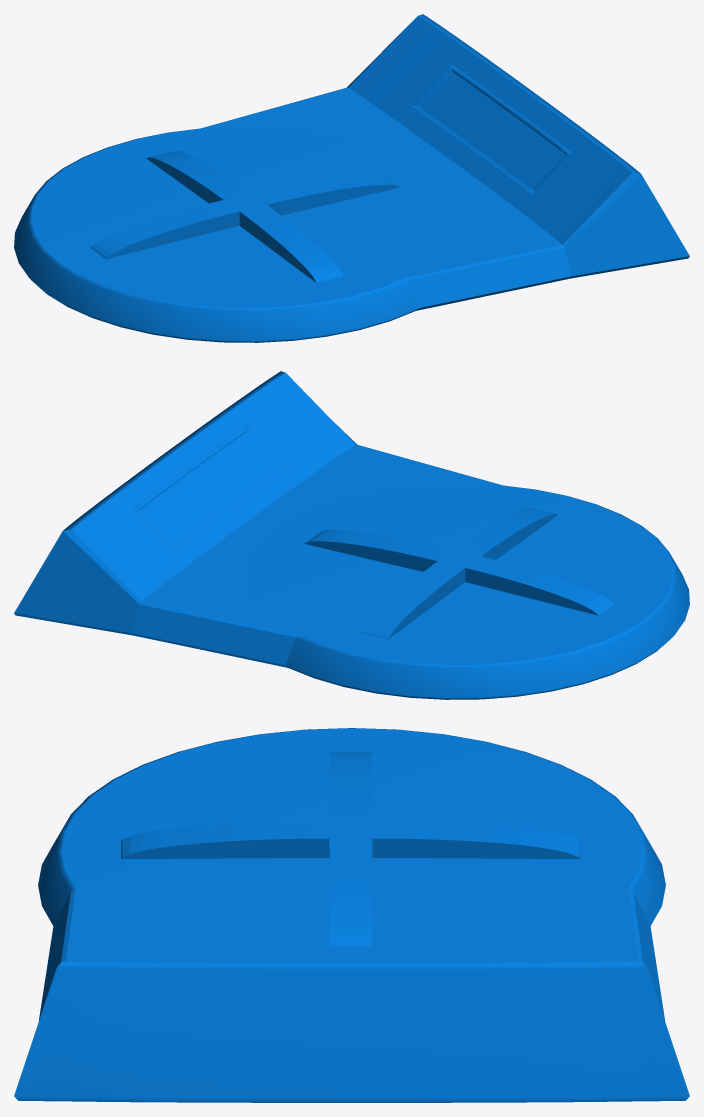
Rendered from Code_Machine_04.fbx.
3 views of the same model, one above another, from view 1: azimuth 30°, elevation 25°; view 2: azimuth 150°, elevation 25°; view 3: azimuth 270°, elevation 25° (orthographic). The views are drawn at different scales.
Parts seen in each view (by area): view 1: Code_Machine_04; view 2: Code_Machine_04; view 3: Code_Machine_04.
Boxes of the visible parts, x1,y1,x2,y2 form: Code_Machine_04: (14, 14, 689, 342); Code_Machine_04: (14, 371, 689, 699); Code_Machine_04: (14, 728, 689, 1102).
Bounding box in the file's own units: 18.76 × 2.87 × 15.5.
